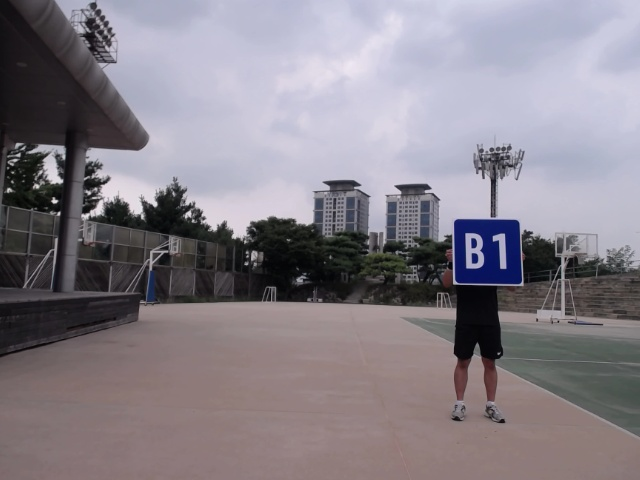delivery_b1: (452, 217, 523, 286)
